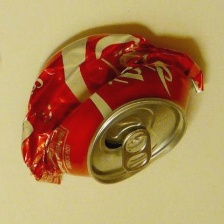can: (16, 28, 209, 192)
